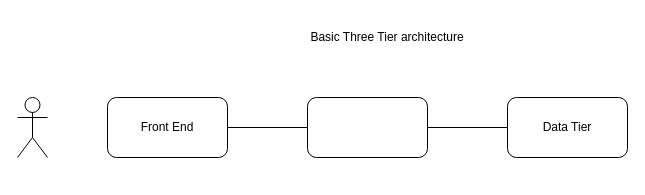
Some shapes in this 645 by 195 pixel diagram are drawn without their labels. Each missing label, with the box of its shape:
Business Logic: (306, 96, 428, 158)
User: (16, 96, 48, 158)
